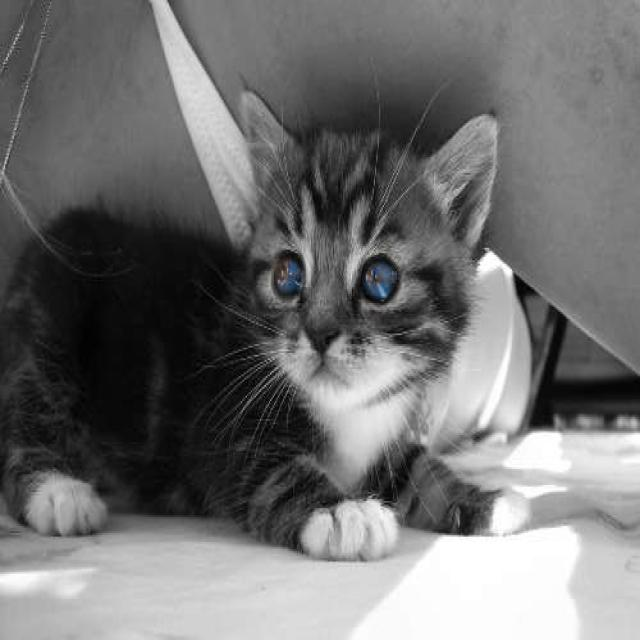left eye: (358, 249, 401, 305)
